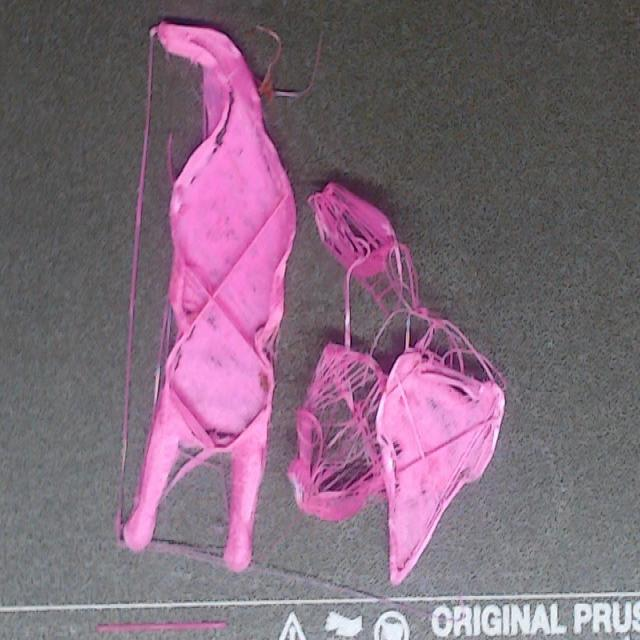mistake: (116, 21, 298, 571), (124, 21, 295, 571), (288, 183, 505, 584), (308, 181, 393, 268)
